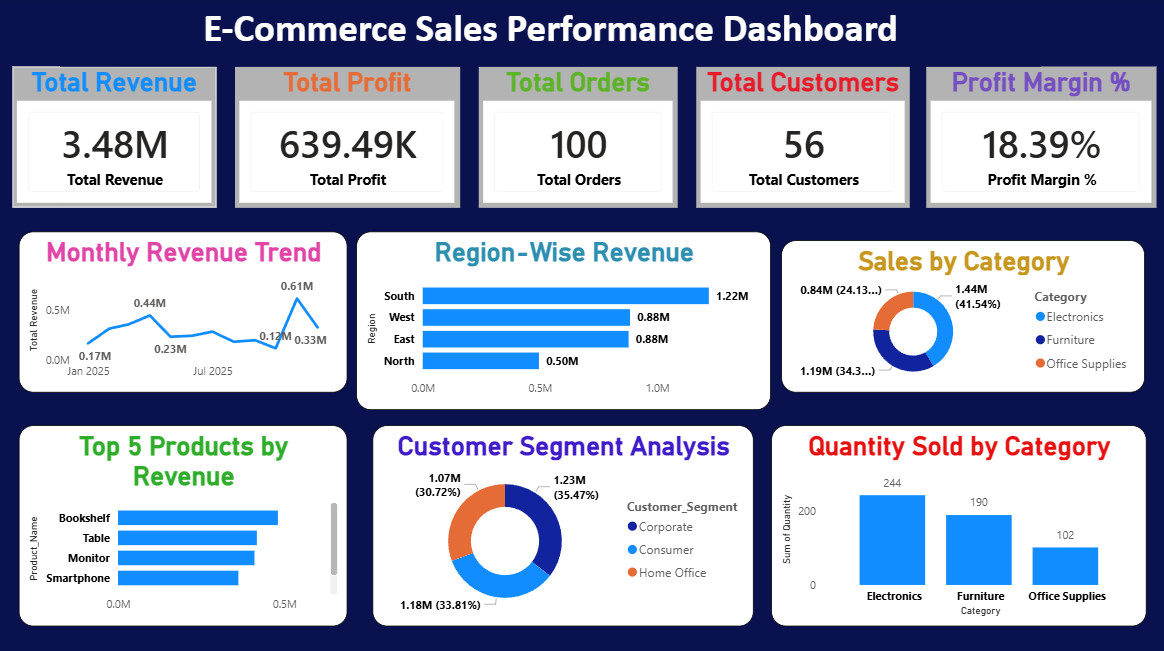

This screenshot's page, from the dashboard's own definition file:
{"tool":"powerbi","page":{"name":"Page 1","canvas":[1280,720],"ordinal":0},"visuals":[{"type":"cardVisual","title":"Total Revenue","fields":{"Data":["Ecommerce_Data.Total Revenue"]},"box":[13.7,74.1,223.7,155.1],"z":0},{"type":"cardVisual","title":"Total Profit","fields":{"Data":["Ecommerce_Data.Total Profit"]},"box":[258,74.1,247,155.1],"z":1},{"type":"cardVisual","title":"Total Orders","fields":{"Data":["Ecommerce_Data.Total Orders"]},"box":[525.6,74.1,218.2,155.1],"z":2},{"type":"cardVisual","title":"Total Customers","fields":{"Data":["Ecommerce_Data.Total Customers"]},"box":[764.3,74.1,234.6,155.1],"z":3},{"type":"cardVisual","title":"Profit Margin %","fields":{"Data":["Ecommerce_Data.Profit Margin %"]},"box":[1016.8,74.1,252.5,155.1],"z":4},{"type":"lineChart","title":"Monthly Revenue Trend","fields":{"Y":["Ecommerce_Data.Total Revenue"],"Category":["Ecommerce_Data.Order_Date.Variation.Date Hierarchy.Year","Ecommerce_Data.Order_Date.Variation.Date Hierarchy.Quarter","Ecommerce_Data.Order_Date.Variation.Date Hierarchy.Month","Ecommerce_Data.Order_Date.Variation.Date Hierarchy.Day"]},"box":[20.6,255.2,360.9,177],"z":5},{"type":"clusteredBarChart","title":"Region-Wise Revenue","fields":{"Category":["Ecommerce_Data.Region"],"Y":["Ecommerce_Data.Total Revenue"]},"box":[391.1,255.2,455.6,196.2],"z":6},{"type":"donutChart","title":"Sales by Category","fields":{"Category":["Ecommerce_Data.Category"],"Y":["Ecommerce_Data.Total Revenue"]},"box":[857.6,264.8,399.3,167.4],"z":7},{"type":"clusteredBarChart","title":"Top 5 Products by Revenue","fields":{"Category":["Ecommerce_Data.Product_Name"],"Y":["Ecommerce_Data.Total Revenue"]},"box":[20.6,467.9,360.9,220.9],"z":8},{"type":"donutChart","title":"Customer Segment Analysis","fields":{"Category":["Ecommerce_Data.Customer_Segment"],"Y":["Ecommerce_Data.Total Revenue"]},"box":[408.9,467.9,418.5,220.9],"z":9},{"type":"clusteredColumnChart","title":"Quantity Sold by Category","fields":{"Category":["Ecommerce_Data.Category"],"Y":["Sum(Ecommerce_Data.Quantity)"]},"box":[846.7,467.9,411.7,220.9],"z":10},{"type":"textbox","box":[65.9,0,1077.2,74.1],"z":11}]}

Visuals, with their boxes in screenshot pixels (x1, y1, x2, y2), scaled from the page's 1280x720 canvas onto the 1164x651 screenshot:
"Total Revenue" cardVisual: Rect(12, 67, 216, 207)
"Total Profit" cardVisual: Rect(235, 67, 459, 207)
"Total Orders" cardVisual: Rect(478, 67, 676, 207)
"Total Customers" cardVisual: Rect(695, 67, 908, 207)
"Profit Margin %" cardVisual: Rect(925, 67, 1154, 207)
"Monthly Revenue Trend" lineChart: Rect(19, 231, 347, 391)
"Region-Wise Revenue" clusteredBarChart: Rect(356, 231, 770, 408)
"Sales by Category" donutChart: Rect(780, 239, 1143, 391)
"Top 5 Products by Revenue" clusteredBarChart: Rect(19, 423, 347, 623)
"Customer Segment Analysis" donutChart: Rect(372, 423, 752, 623)
"Quantity Sold by Category" clusteredColumnChart: Rect(770, 423, 1144, 623)
textbox: Rect(60, 0, 1040, 67)
